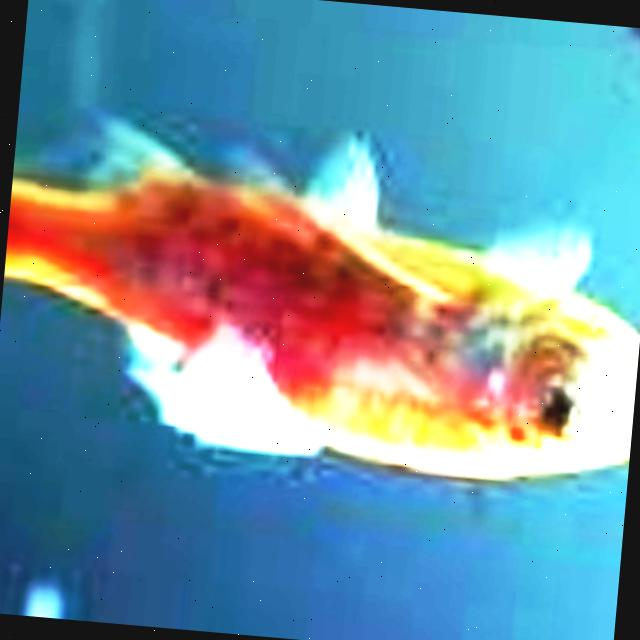Fungal Disease -Saprolegniasis-: (3, 163, 640, 476), (3, 166, 640, 476), (3, 170, 640, 475)
